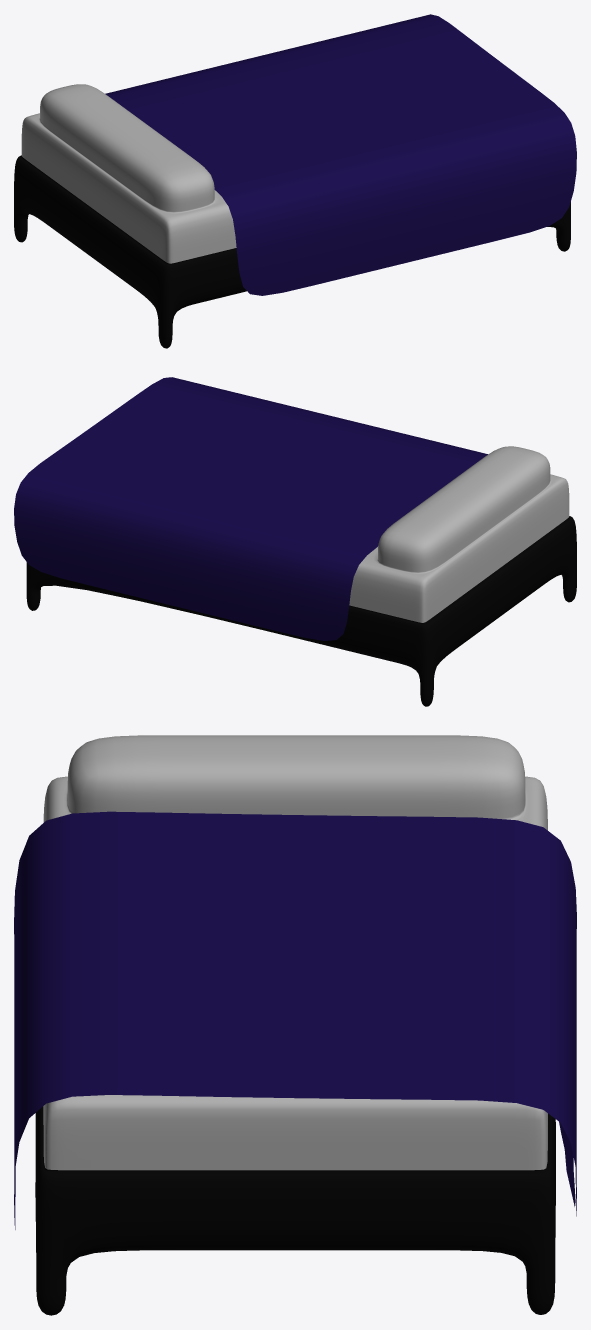
Rendered from Cama.fbx.
3 renders of one model, top to bottom at view 1: azimuth 30°, elevation 25°; view 2: azimuth 150°, elevation 25°; view 3: azimuth 270°, elevation 25°, orthographic. The views are drawn at different scales.
Parts seen in each view (by area): view 1: Cama; view 2: Cama; view 3: Cama.
Part boxes in pixels (x1=…): Cama: x1=14, y1=14, x2=576, y2=348; Cama: x1=14, y1=377, x2=576, y2=706; Cama: x1=14, y1=735, x2=576, y2=1315.
Bounding box in the file's own units: 832 × 301 × 576.
